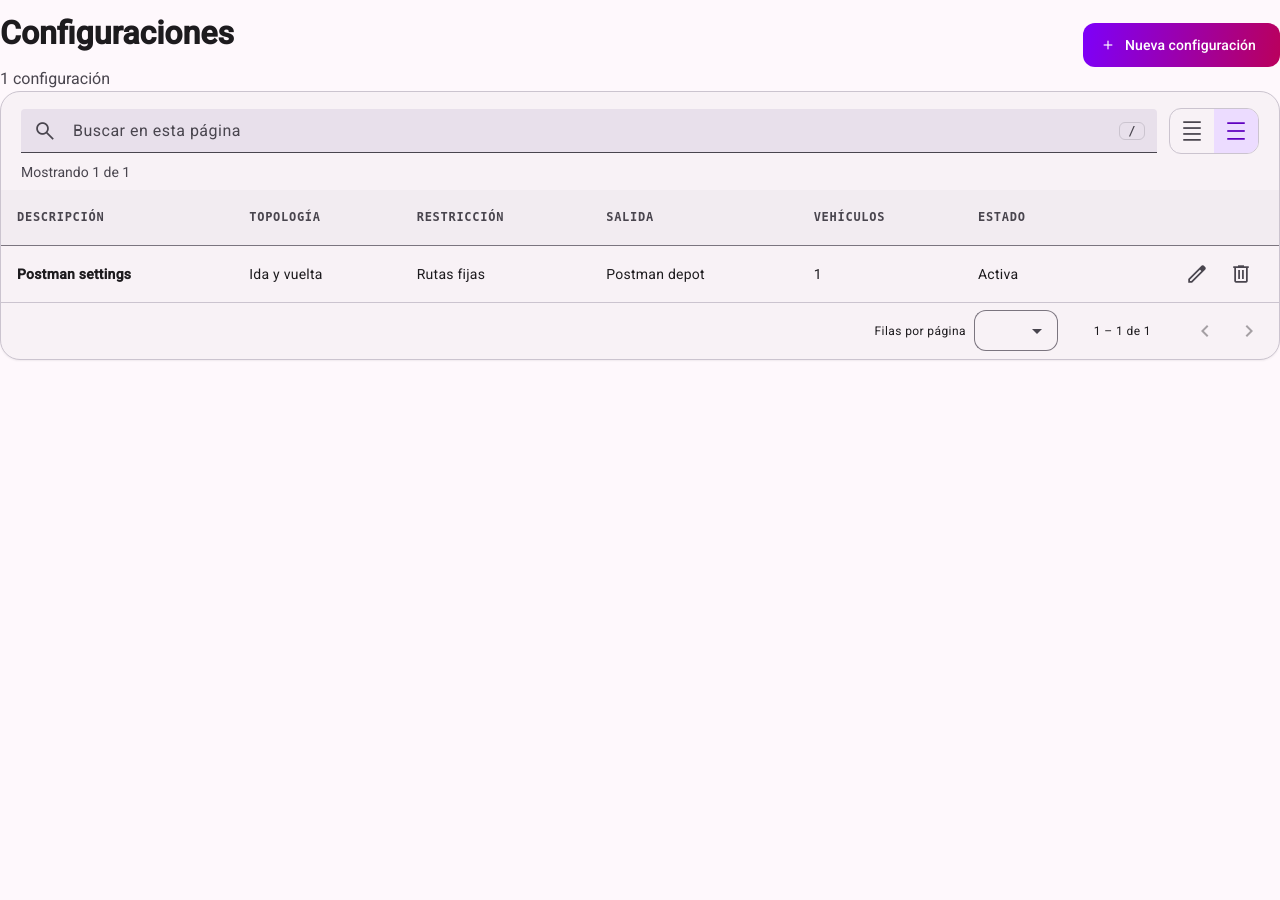
Test case: SettingsListComponent › borrado › si ya no existe (404) avisa y recarga
The width and height of the screenshot is (1280, 900).
Click the button named "Eliminar configuración Postman settings": (1241, 274) x1=1219 y1=252 x2=1263 y2=296
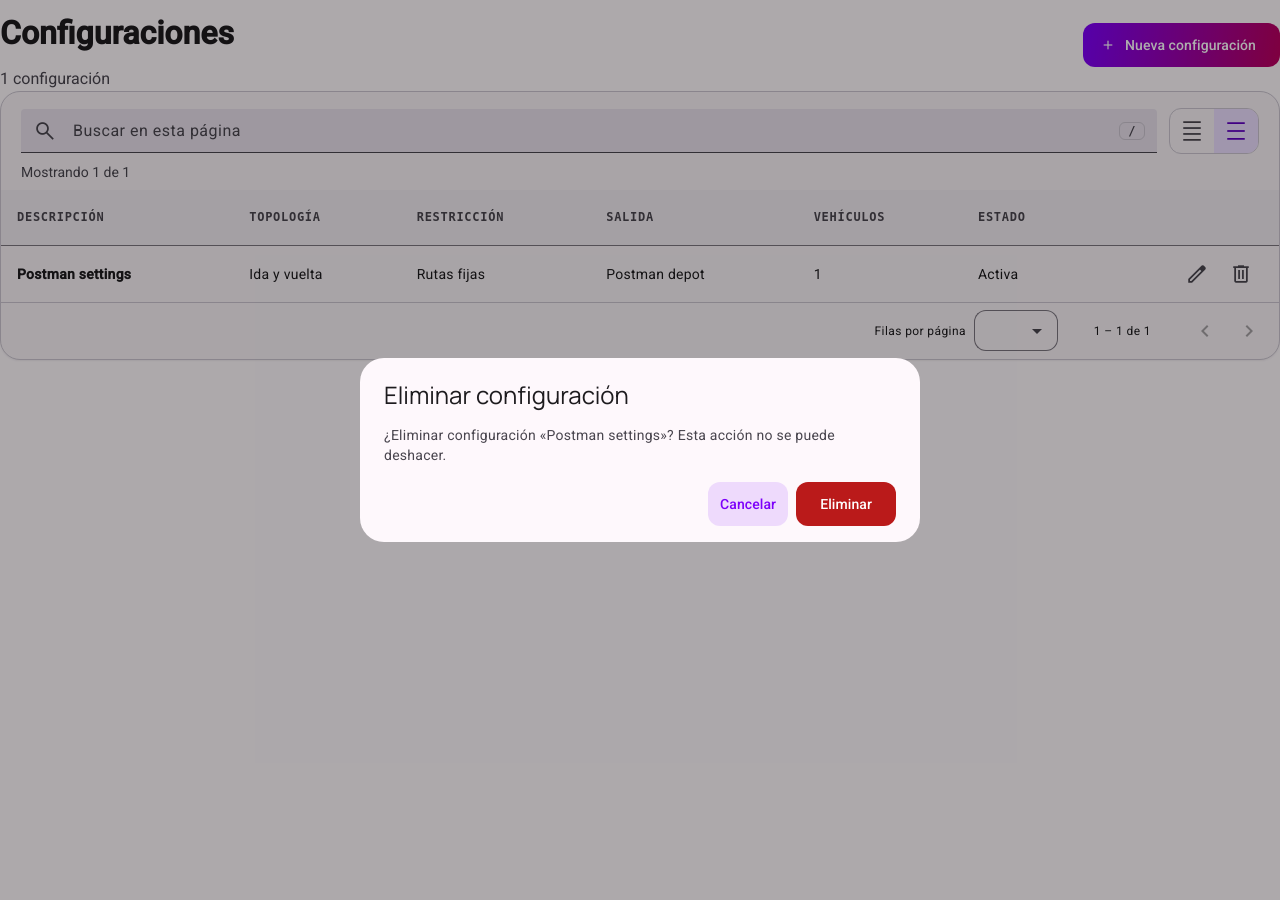
Click the button "Eliminar": (846, 504) x1=796 y1=482 x2=896 y2=526
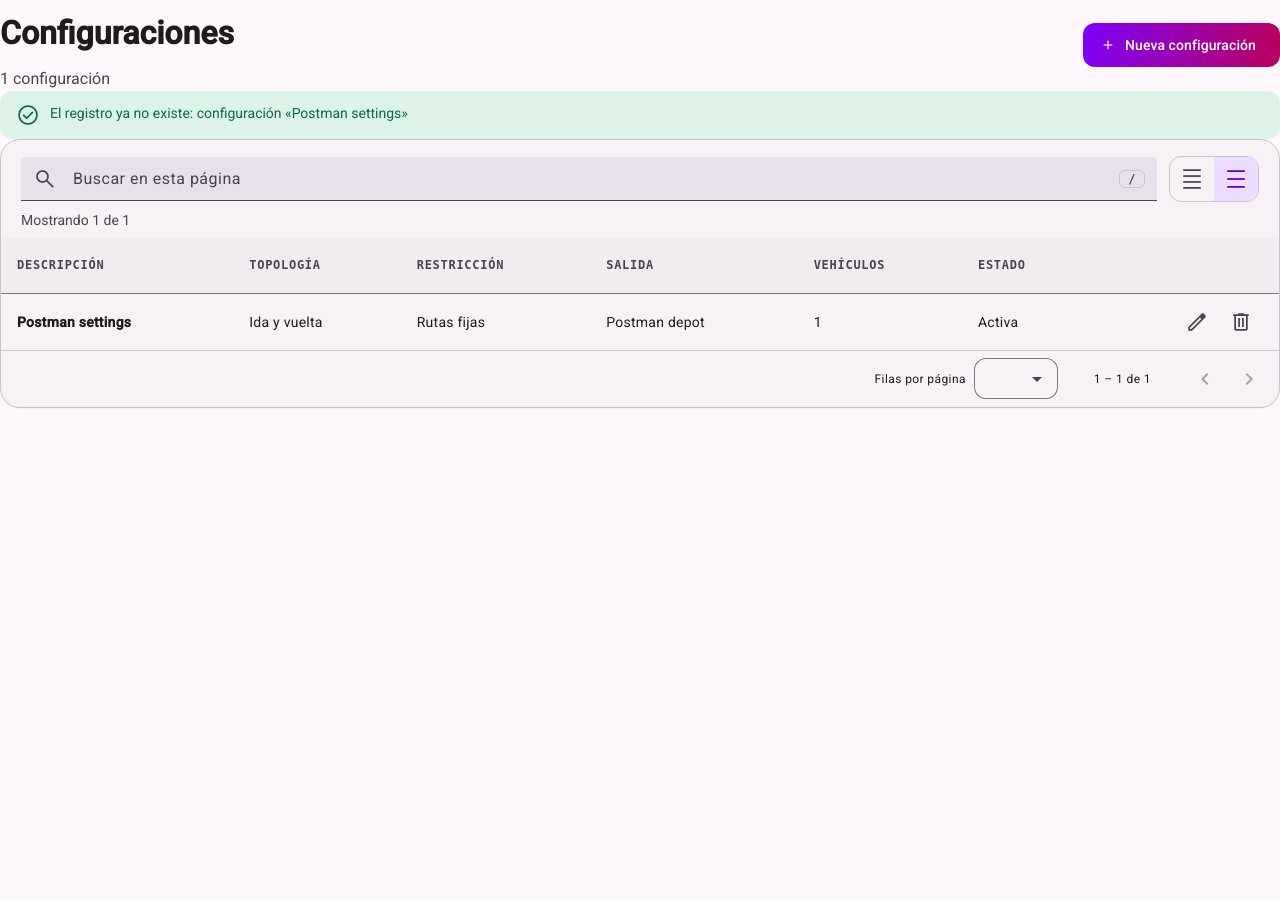
expect the text "El registro ya no existe" is shown: met, box x1=50 y1=105 x2=408 y2=121
